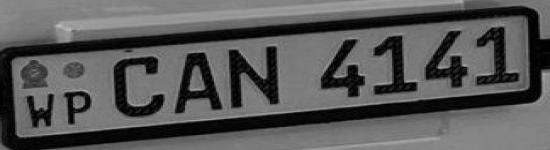1: (471, 22, 525, 88), (369, 32, 423, 96)
4: (313, 35, 370, 100), (422, 26, 472, 91)
A: (172, 46, 226, 116)
C: (110, 53, 170, 120)
N: (226, 42, 288, 112)
P: (60, 88, 97, 126)
W: (20, 91, 58, 130)
